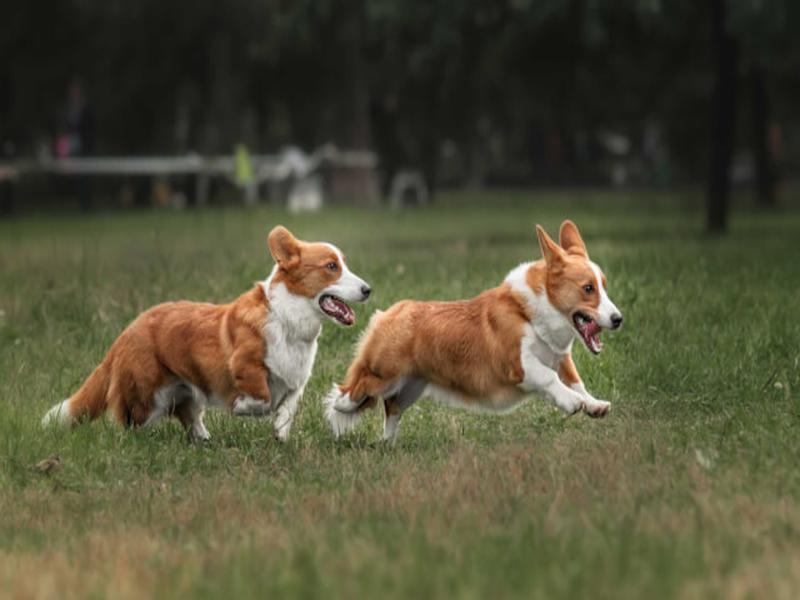corgi: (535, 217, 627, 356)
